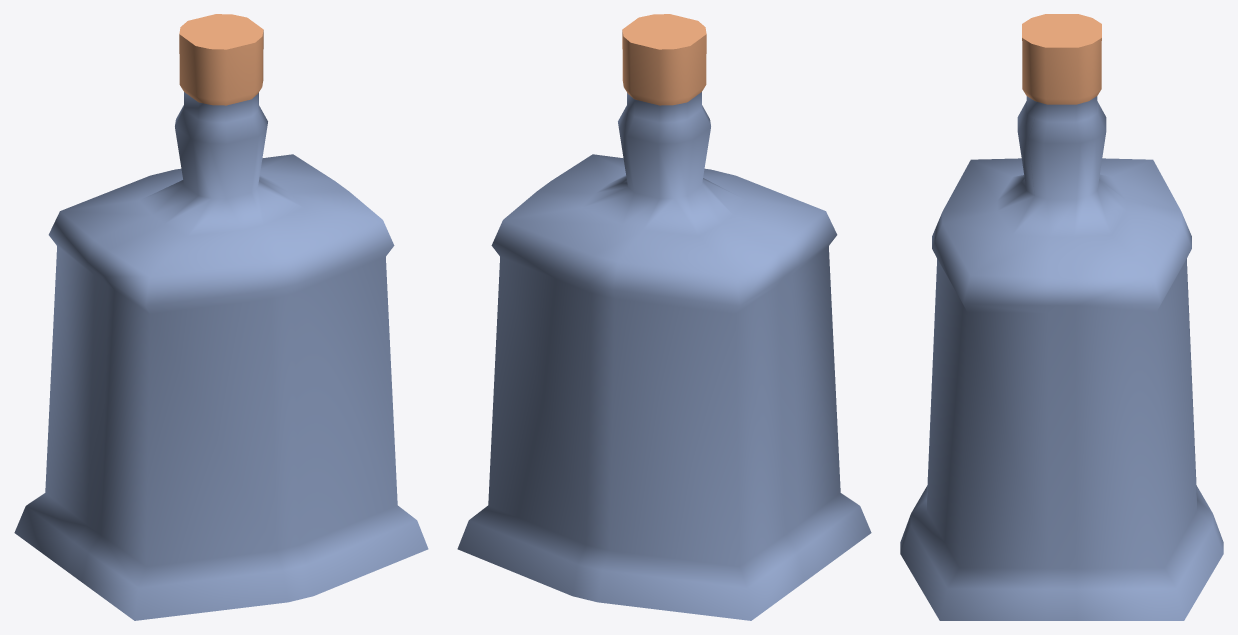
File: BAR_LiqourBottle04_Body.fbx
3 views of the same model, side by side, from view 1: azimuth 30°, elevation 25°; view 2: azimuth 150°, elevation 25°; view 3: azimuth 270°, elevation 25° (orthographic).
Visible parts, largest first — view 1: Bottle04_Body; view 2: Bottle04_Body; view 3: Bottle04_Body.
Boxes of the visible parts, x1,y1,x2,y2 form: Bottle04_Body: (14, 14, 428, 620); Bottle04_Body: (457, 14, 871, 620); Bottle04_Body: (900, 14, 1223, 620).
Bounding box in the file's own units: 12.22 × 20.23 × 11.45.
